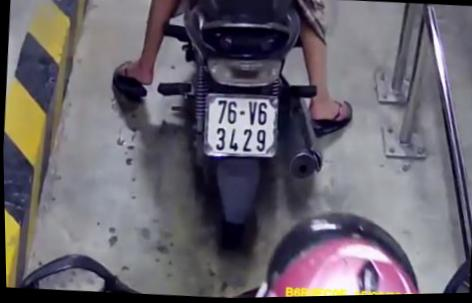LP: (198, 90, 282, 163)
